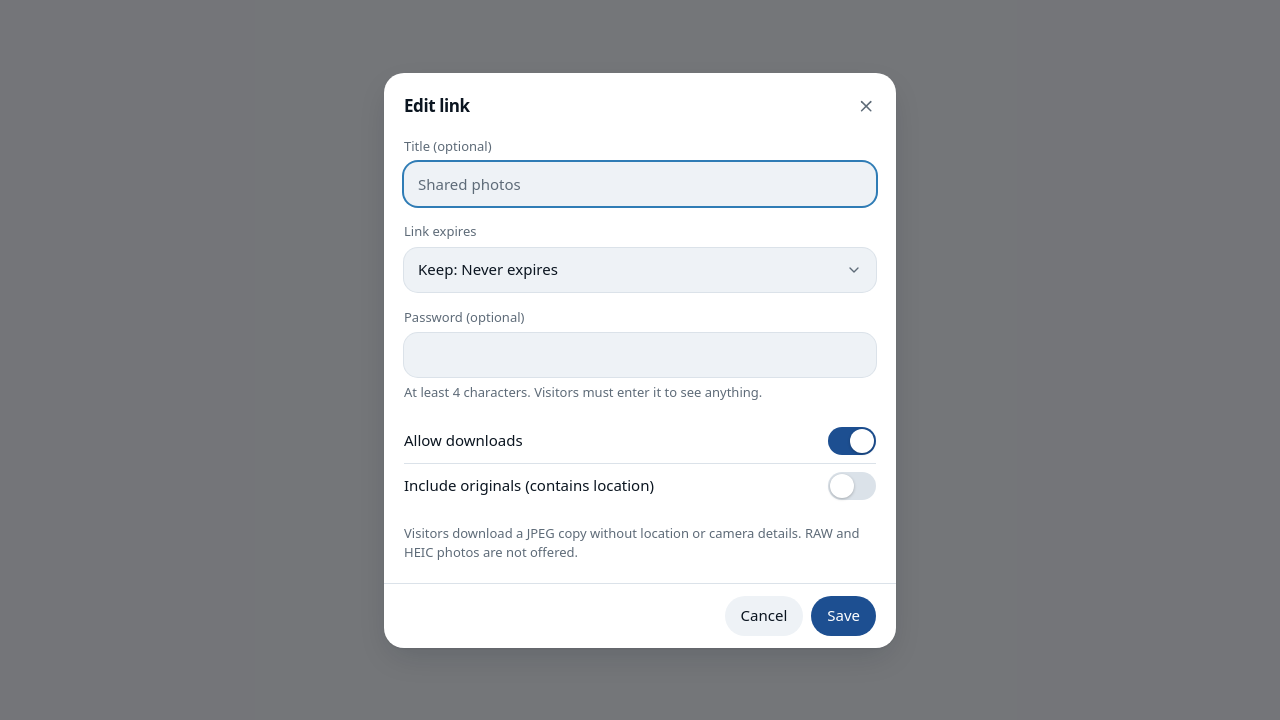
EditShareDialog › offers no password removal for a link without one, and shows errors
Click the button "Save" at [844, 616], box top-left (811, 596), bottom-right (876, 636)
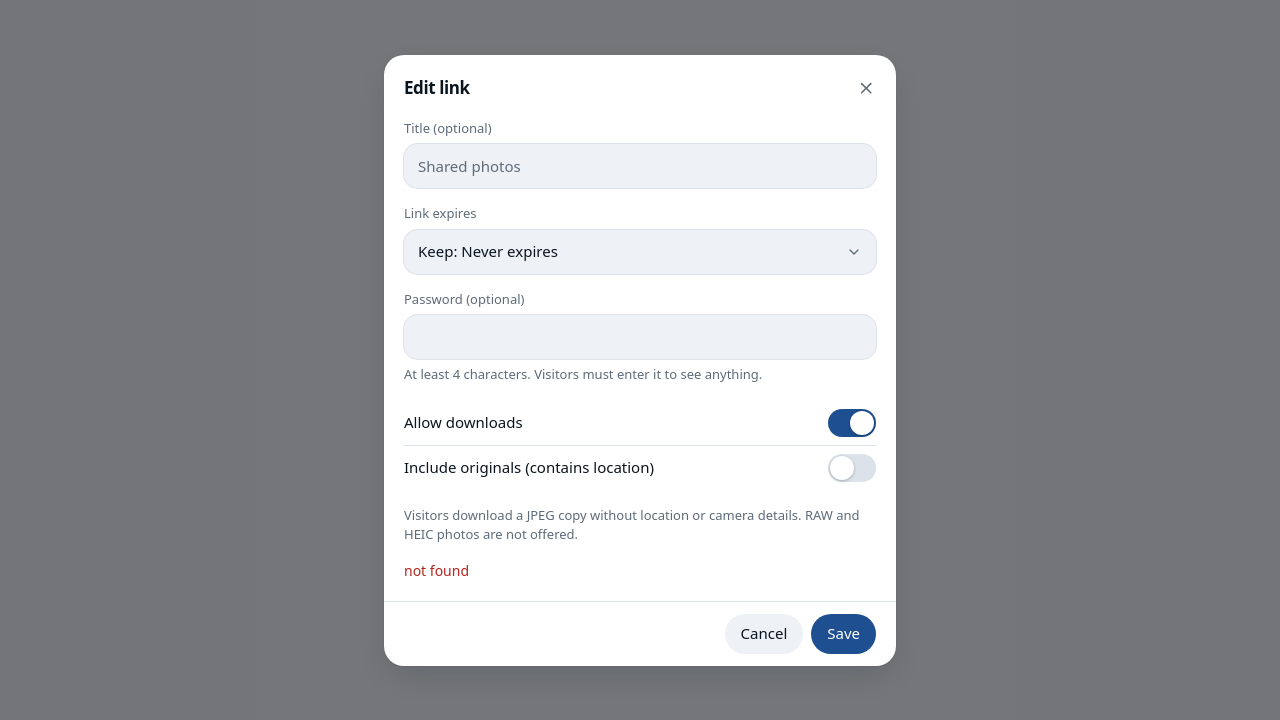
Now the message reads "not found", box top-left (404, 560), bottom-right (469, 580)
